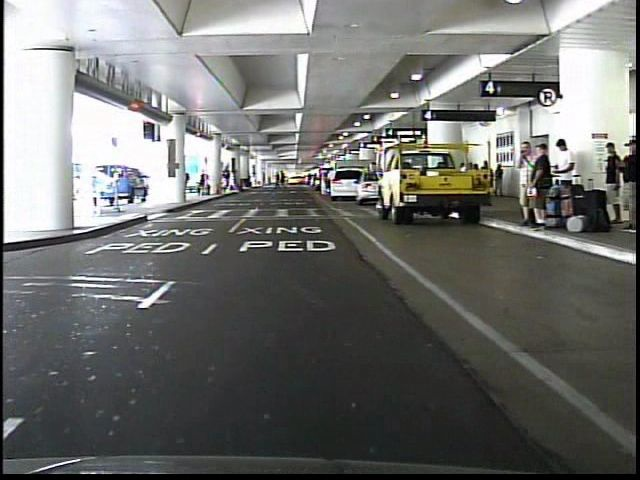person: (511, 140, 534, 225), (616, 137, 636, 227), (310, 165, 333, 192)
